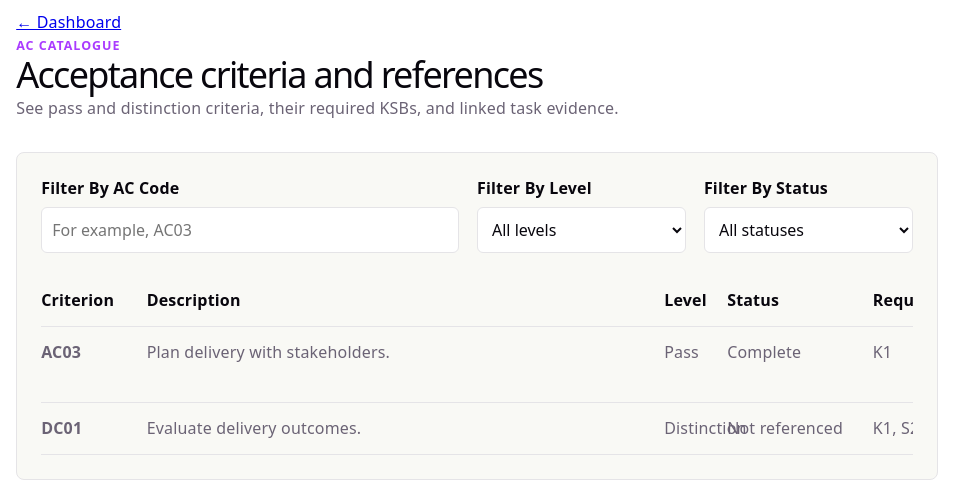
it: AcceptanceCriteriaPage › filters by criterion level, evidence status, and code
Select "Distinction" in the dropdown labelled "Filter by level". click: (581, 230)
box: [477, 207, 686, 253]
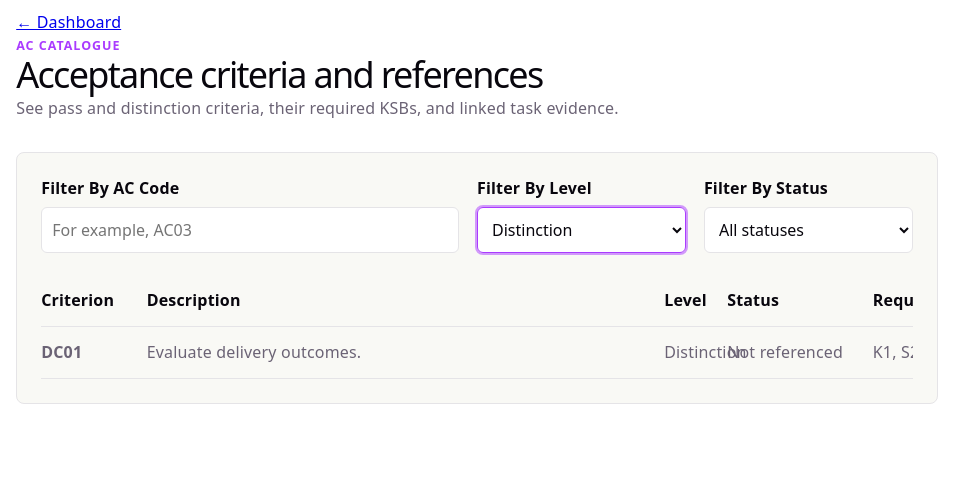
Expected: the text "DC01" is shown, [41, 341, 82, 363]
Select "All levels" in the dropdown labelled "Filter by level". click: (581, 230)
box: [477, 207, 686, 253]
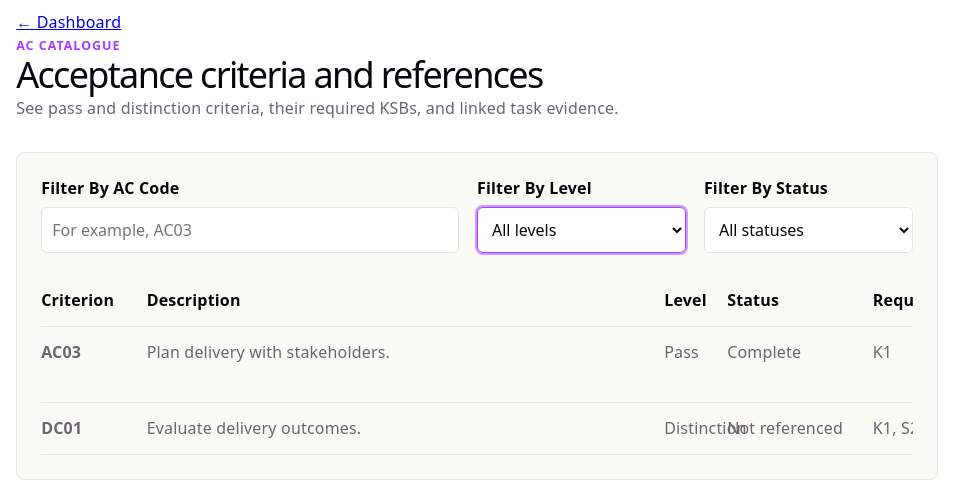
Select "Complete" in the dropdown labelled "Filter by status". click: (808, 230)
box: [704, 207, 913, 253]
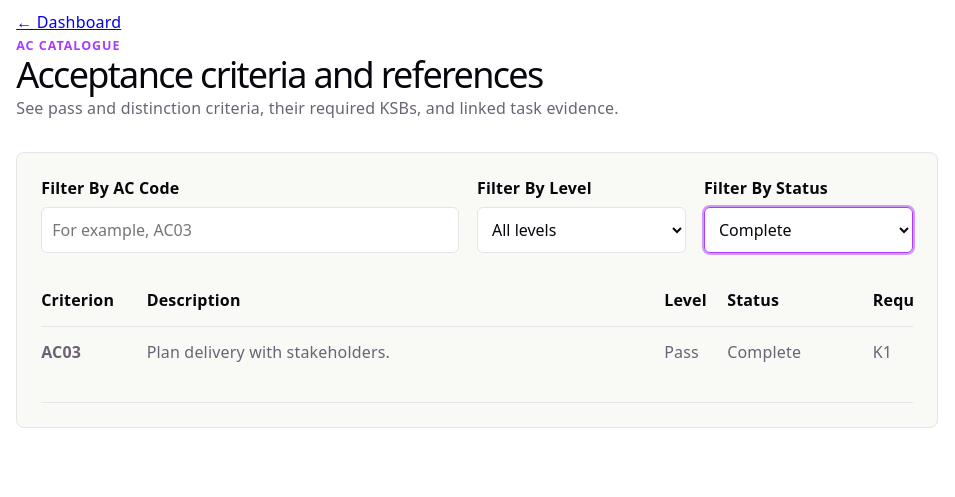
Now the text "AC03" is shown, box [41, 341, 81, 363]
Now the text "DC01" is gone
Select "All statuses" in the dropdown labelled "Filter by status". click: (808, 230)
box: [704, 207, 913, 253]
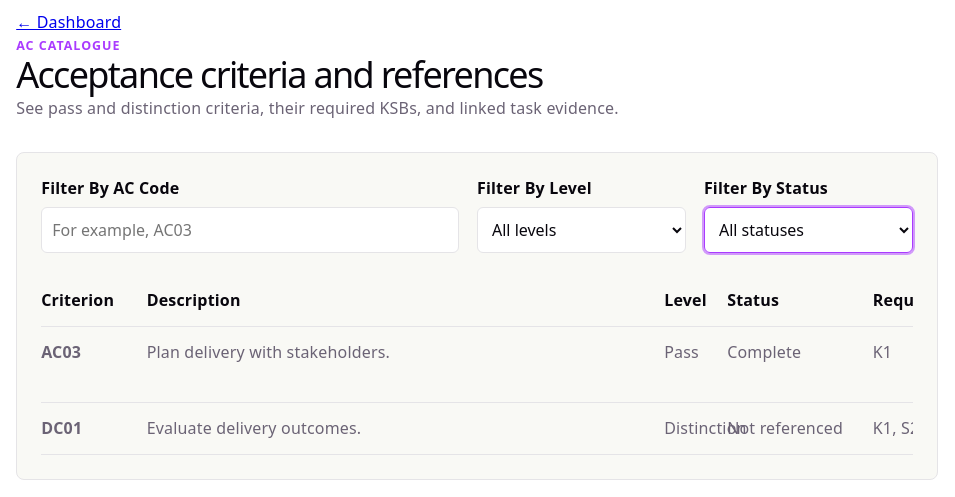
Type "dc01" into the search field labelled "Filter by AC code". click: (250, 230)
box: [41, 207, 459, 253]
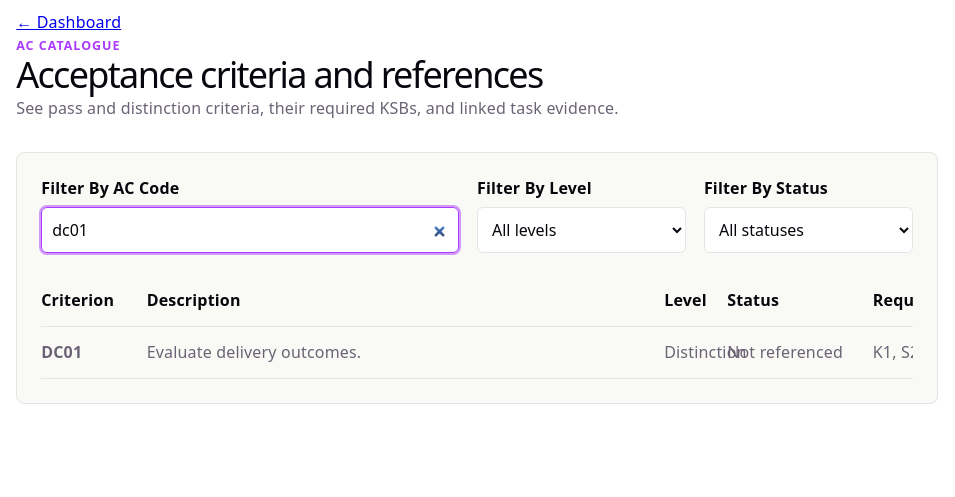
Now the text "DC01" is shown, box [41, 341, 82, 363]
Now the text "AC03" is gone
